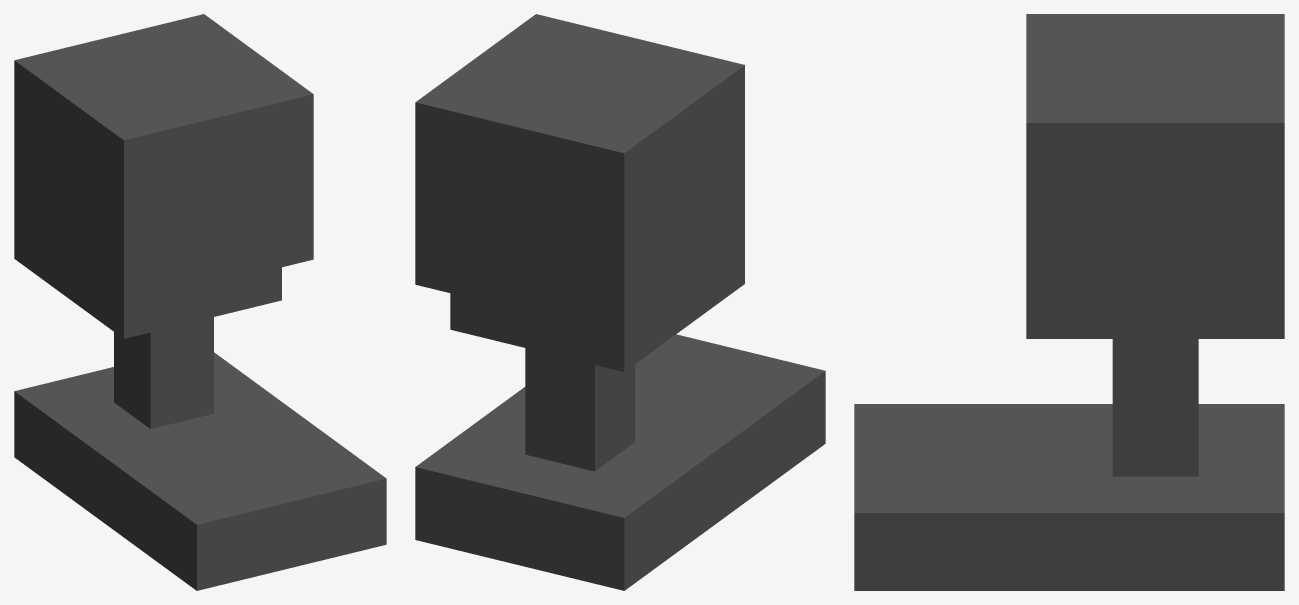
File: PlayerDark-9-Player_LFoot.obj
3 renders of one model, left to right at view 1: azimuth 30°, elevation 25°; view 2: azimuth 150°, elevation 25°; view 3: azimuth 270°, elevation 25°, orthographic. The views are drawn at different scales.
Parts seen in each view (by area): view 1: Player_LFoot; view 2: Player_LFoot; view 3: Player_LFoot.
Boxes of the visible parts, x1,y1,x2,y2 form: Player_LFoot: (14, 14, 386, 590); Player_LFoot: (415, 14, 825, 590); Player_LFoot: (854, 14, 1284, 590).
Size of the model in its own units: 0.6 by 1.2 by 1.
Materials: 1 (1 with a texture image).
